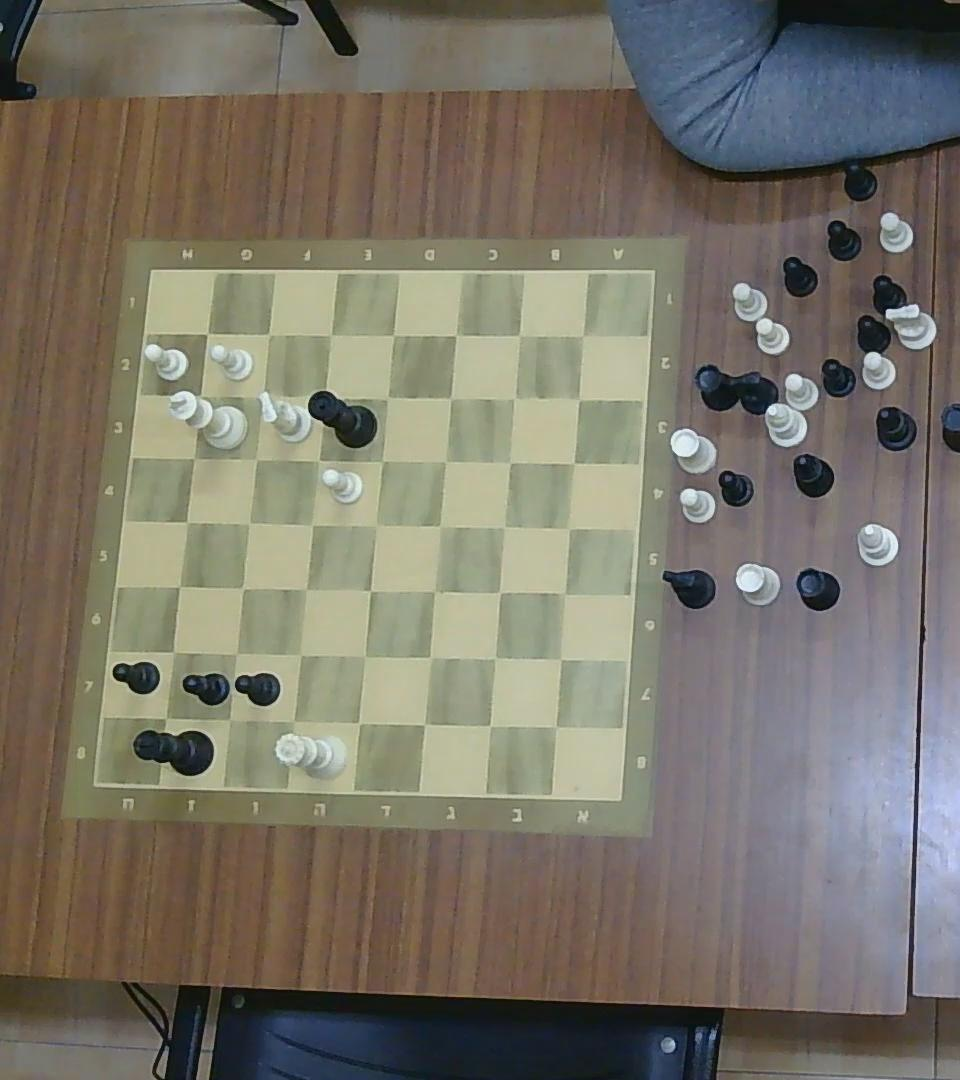xcorner: (477, 712, 503, 738), (542, 714, 569, 739), (247, 383, 272, 409), (412, 711, 437, 736), (418, 645, 442, 670), (347, 710, 371, 734), (482, 647, 506, 671), (353, 644, 376, 668), (288, 642, 311, 666), (281, 709, 305, 731), (154, 706, 178, 728), (319, 324, 341, 346), (218, 709, 240, 731), (439, 387, 461, 408), (371, 449, 392, 471), (429, 515, 449, 537), (549, 648, 571, 668), (188, 386, 210, 406), (366, 514, 386, 535), (423, 581, 443, 602), (499, 450, 519, 471), (225, 642, 245, 663), (376, 388, 396, 408), (183, 447, 203, 467), (559, 518, 579, 538), (445, 325, 465, 345), (383, 325, 403, 345), (435, 450, 454, 471), (247, 448, 266, 469), (296, 578, 315, 599), (555, 583, 574, 604), (170, 576, 189, 597), (302, 514, 321, 534), (489, 582, 508, 602), (361, 580, 380, 600), (177, 511, 196, 531), (259, 324, 278, 344), (315, 386, 334, 406), (240, 513, 259, 532), (198, 324, 217, 343), (164, 643, 183, 662), (234, 579, 253, 598), (495, 516, 513, 536), (309, 450, 327, 470), (505, 388, 523, 407), (511, 326, 529, 345), (573, 326, 591, 345), (565, 453, 583, 471), (572, 390, 588, 406)
